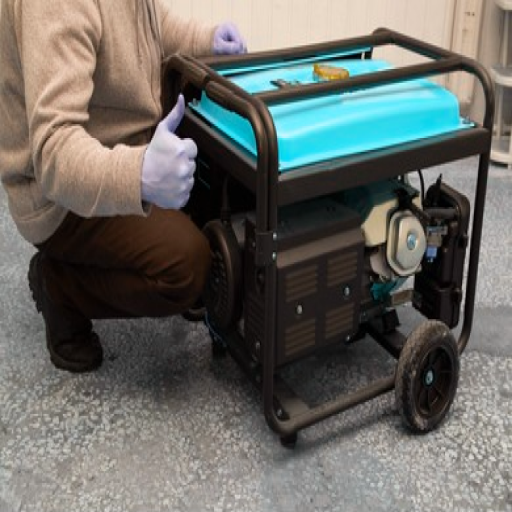portable_generator: (173, 27, 495, 422)
